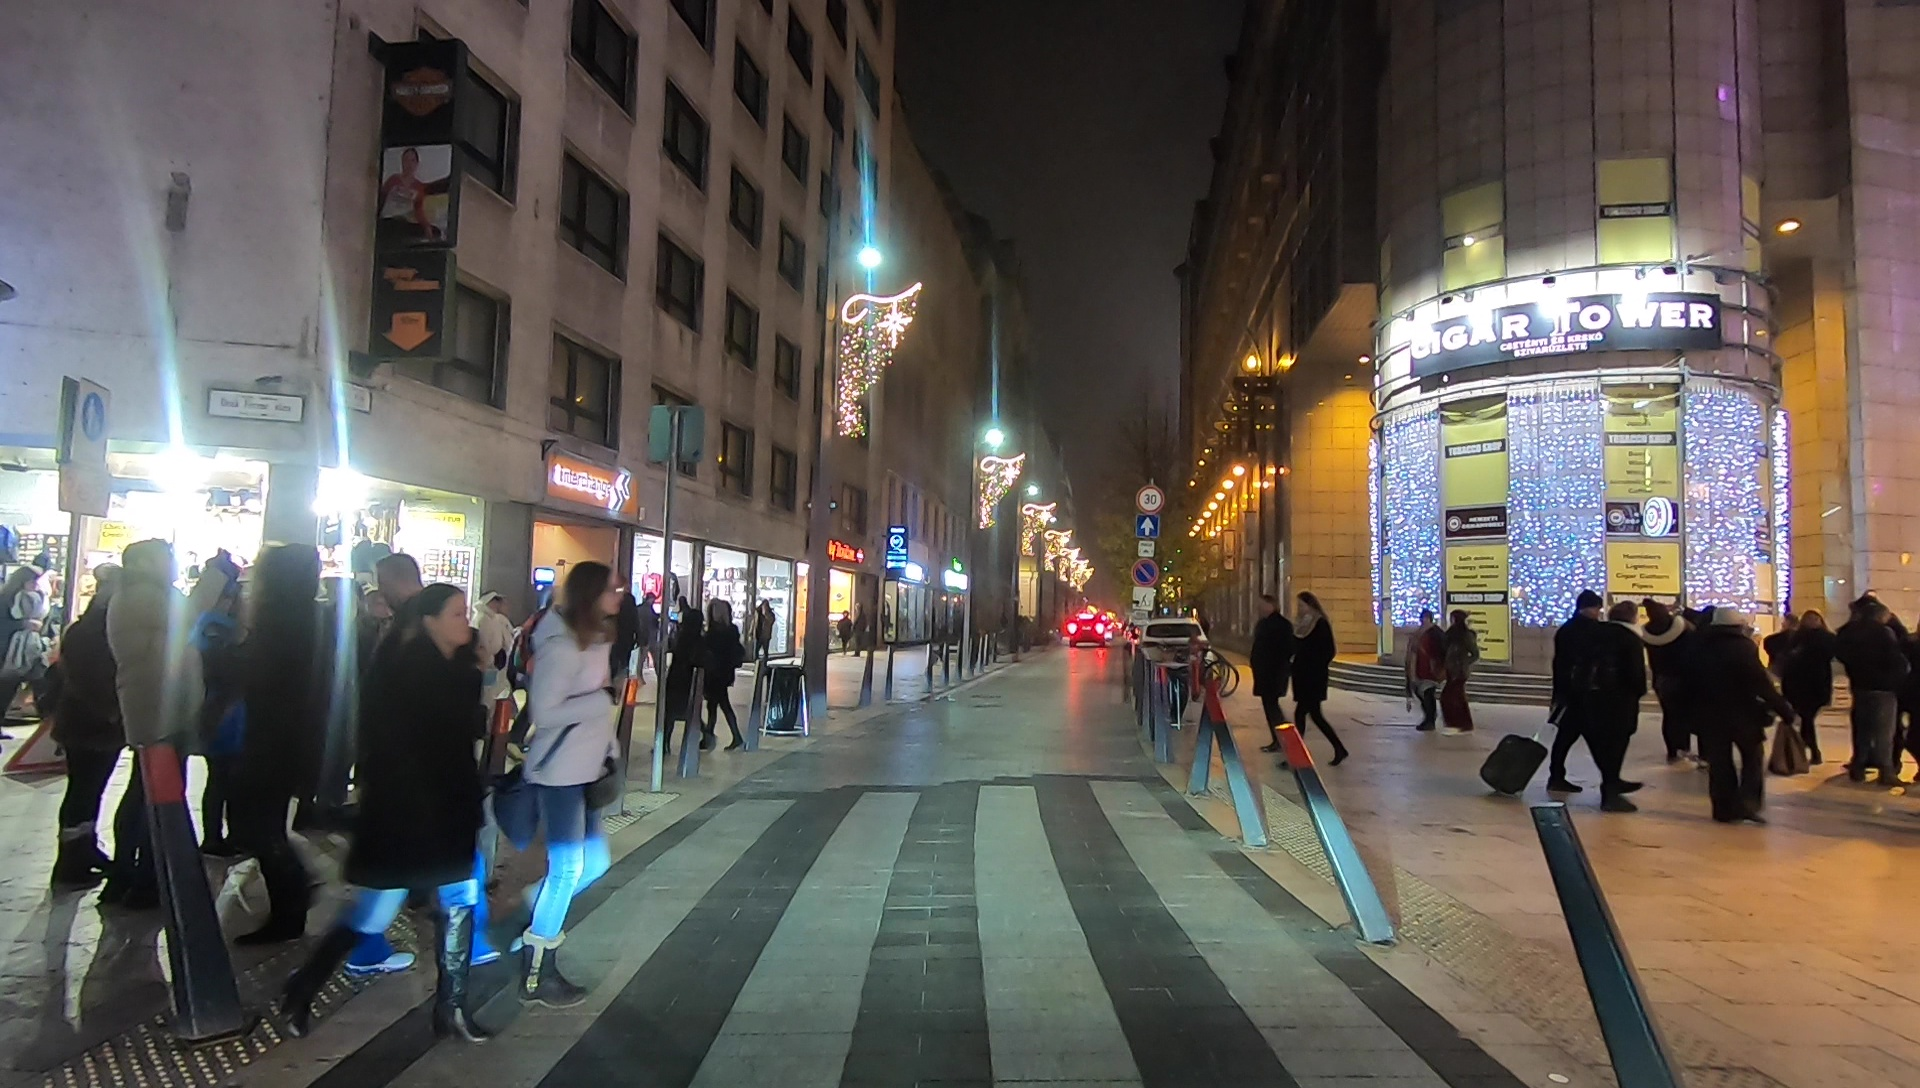person: (315, 586, 490, 1036), (515, 557, 622, 1005), (229, 537, 319, 930), (110, 544, 202, 890), (42, 561, 121, 883), (1694, 607, 1776, 826), (1550, 587, 1633, 794), (1581, 598, 1638, 813), (1640, 594, 1700, 767), (1846, 601, 1902, 787), (1292, 591, 1346, 764), (1787, 607, 1831, 757), (702, 598, 745, 751), (665, 602, 708, 751), (1250, 594, 1288, 748), (1406, 607, 1446, 732), (1768, 610, 1800, 756), (1442, 611, 1472, 733), (756, 599, 773, 660), (837, 609, 852, 651), (856, 603, 865, 655)
